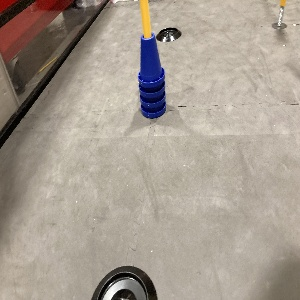Blue_4: (137, 33, 166, 118)
